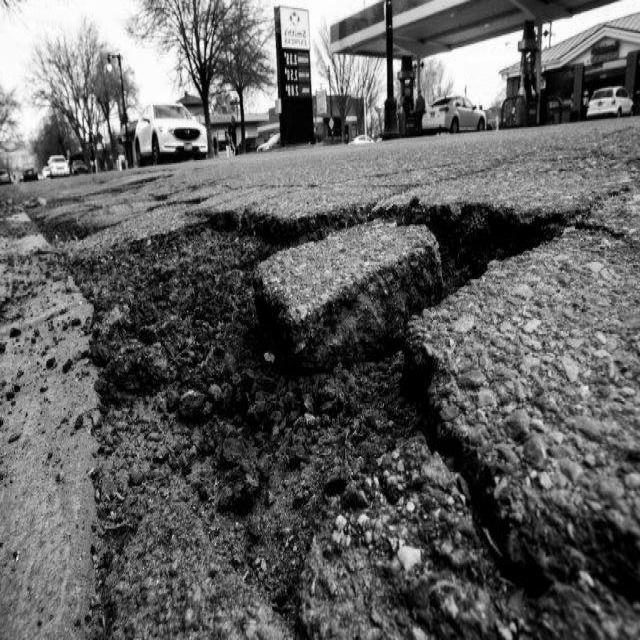jalan retak: (340, 111, 638, 222)
lubang: (79, 164, 582, 632), (0, 136, 104, 336)
